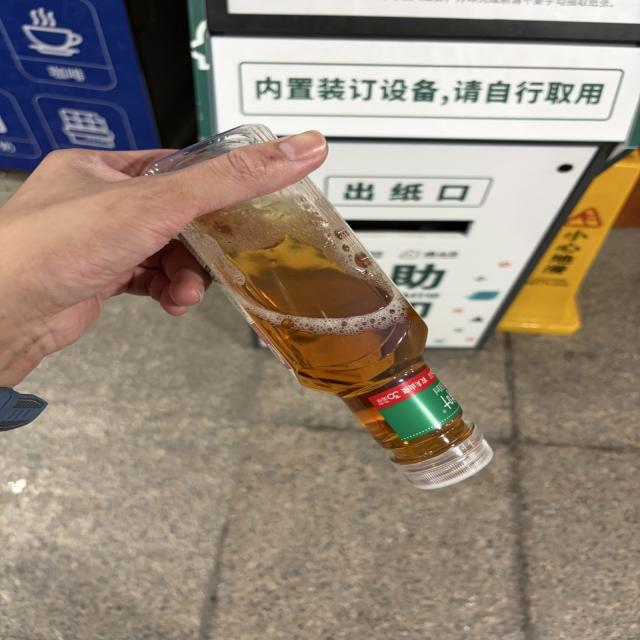medium: (182, 178, 491, 488), (147, 124, 274, 175)
